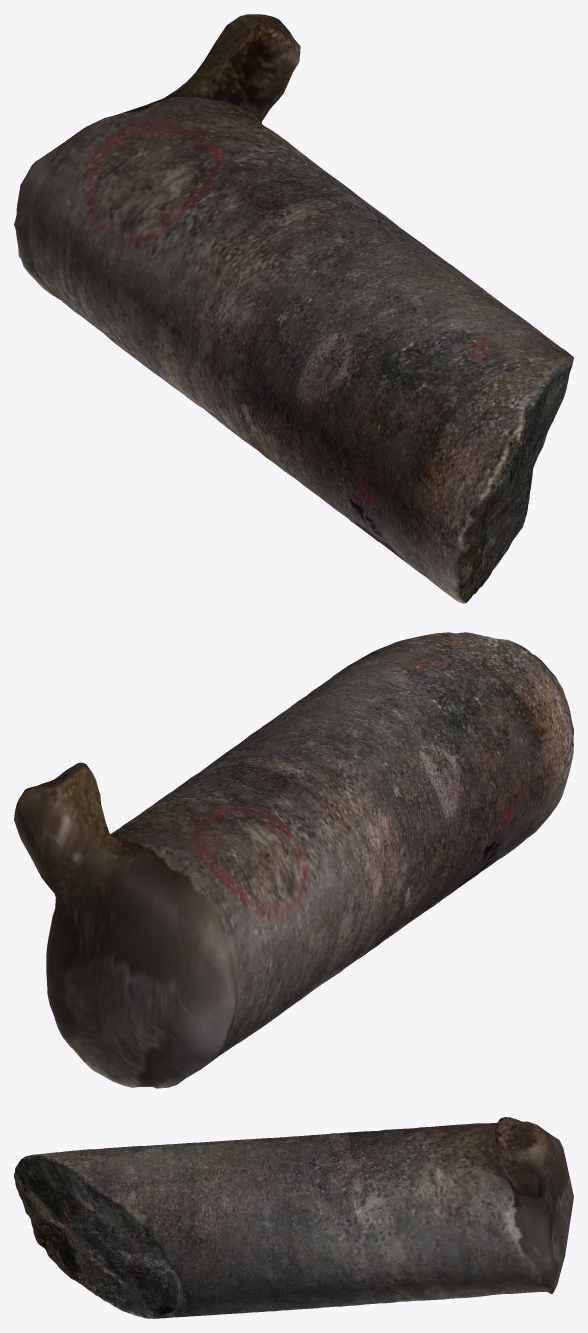
Rendered from PECLD07758 T2.glb.
The picture shows the model from 3 angles, top to bottom: view 1: azimuth 30°, elevation 25°; view 2: azimuth 150°, elevation 25°; view 3: azimuth 270°, elevation 25°; orthographic projection. The views are drawn at different scales.
Parts seen in each view (by area): view 1: baked_mesh; view 2: baked_mesh; view 3: baked_mesh.
Part boxes in pixels (left/top/right/bottom): baked_mesh: left=14, top=14, right=573, bottom=603; baked_mesh: left=14, top=632, right=573, bottom=1088; baked_mesh: left=14, top=1117, right=573, bottom=1318.
Size of the model in its own units: 0.2112 by 0.2585 by 0.6117.
Materials: 1 (1 with a texture image).
